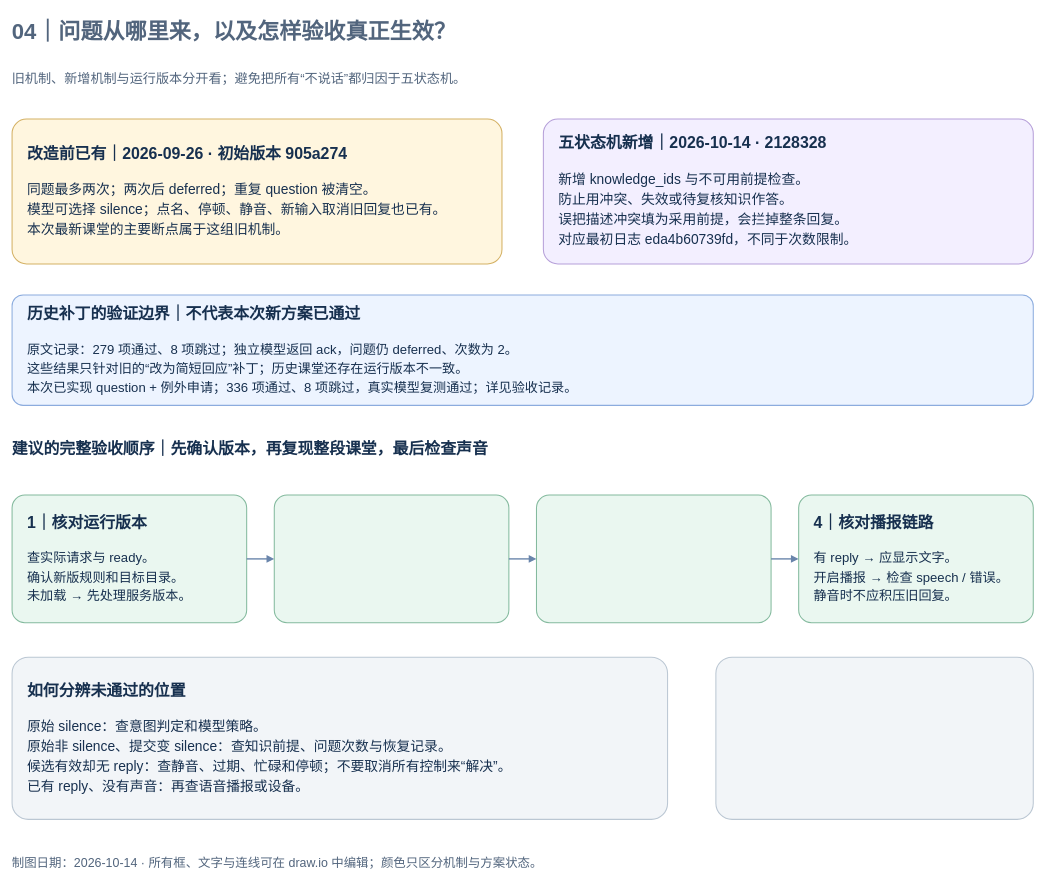
The diagram is 1046 pixels wide and 889 high, and some of its shapes have lost their labels. Each missing label, with the centre of its shape:
2｜验证常规两次上限 同题实际发出两次后暂缓。 无邀请时，模型不再主动问。 换 ID 或类型不得绕过上限。: (391,558)
3｜验证教师邀请例外 “还有疑问吗”→ question + 申请。 校验通过才出现 reply。 同一邀请不可重复放行。 泛泛点名不自动授权。: (653,558)
依据与限制 前述日志与测试是历史证据。 第 5 页为本次实现方案。 程序与流程图已同步更新。 独立验收见同目录记录。 旧进程的具体来源尚未确认。: (874,738)
